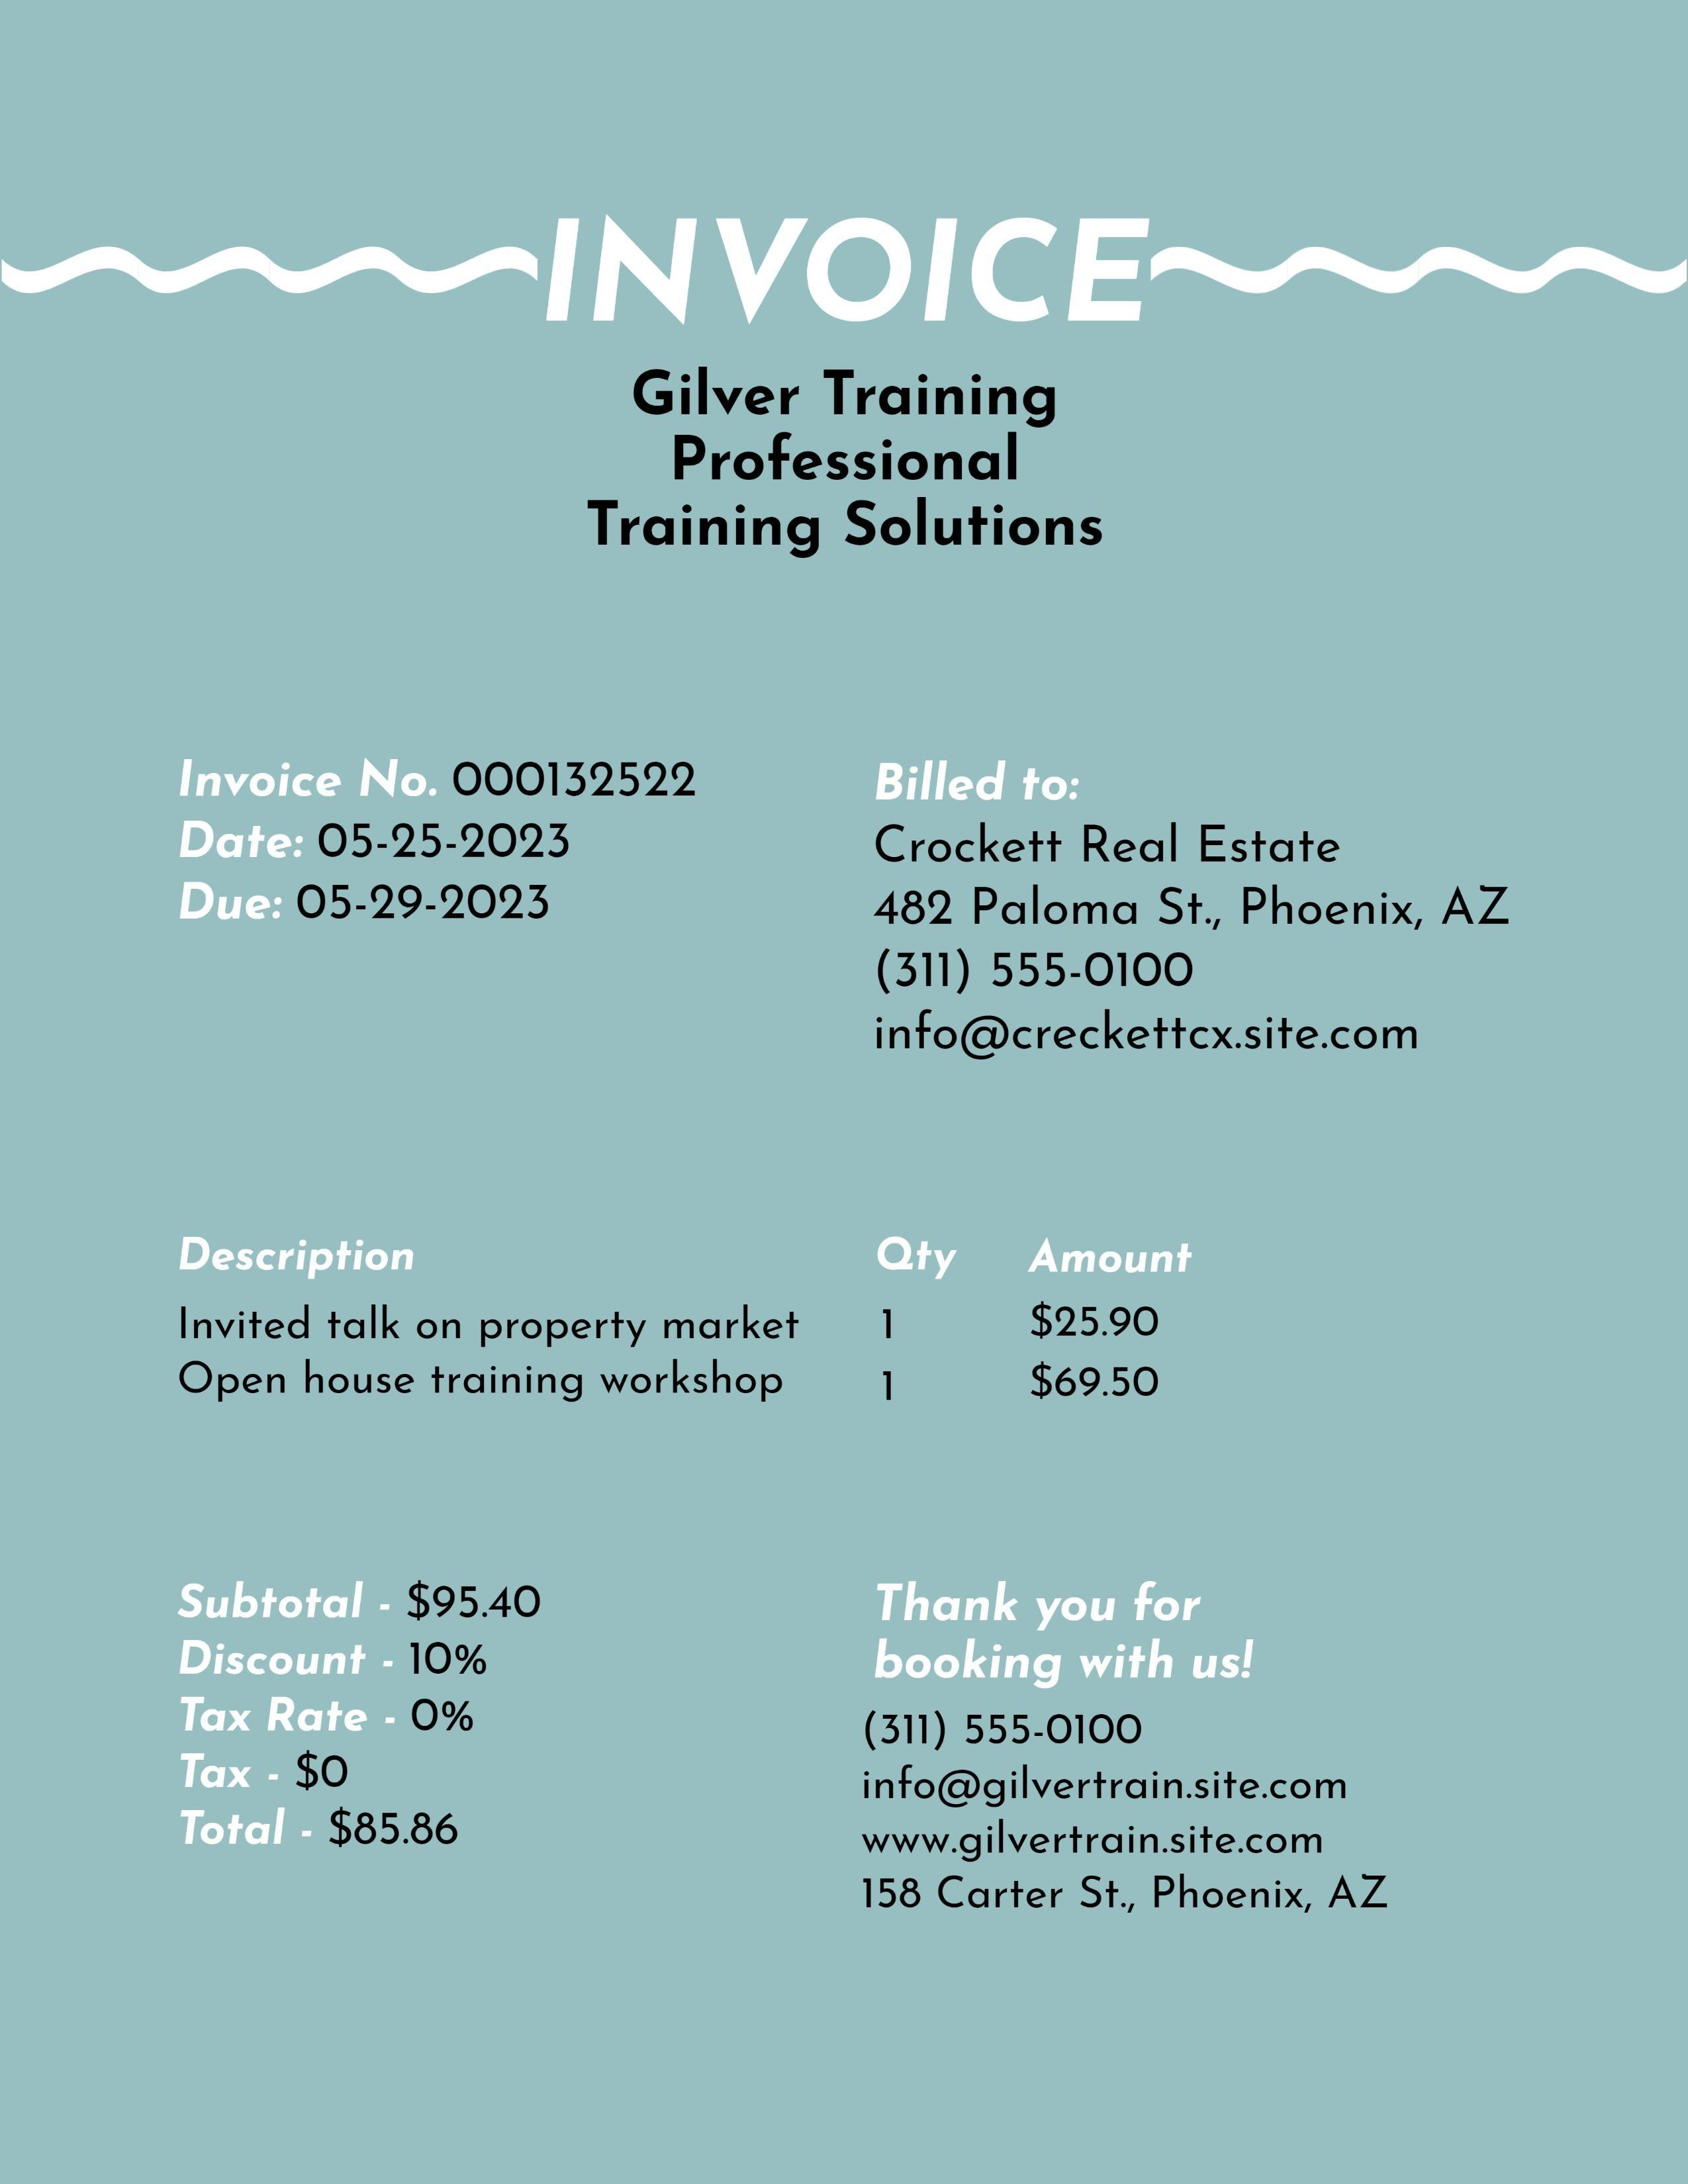ROI: (862, 743, 1525, 1080), (158, 1234, 1206, 1420), (582, 333, 1117, 562), (168, 1567, 555, 1856), (154, 753, 720, 929)
